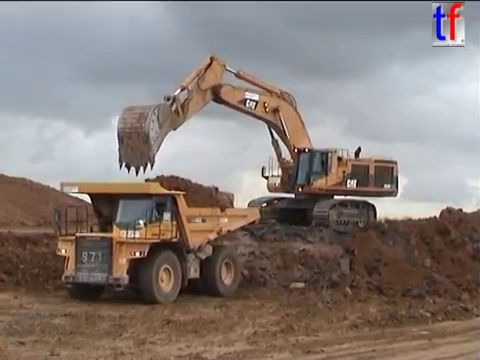excavator: (115, 53, 402, 235)
truck: (52, 179, 263, 306), (187, 186, 236, 227)
